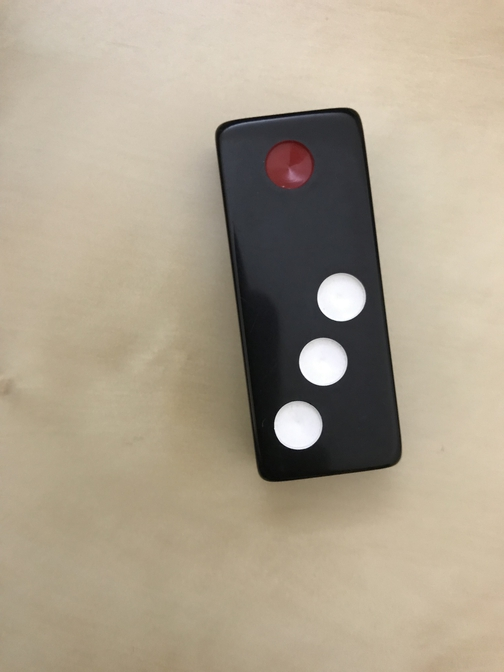goose: (216, 109, 404, 484)
